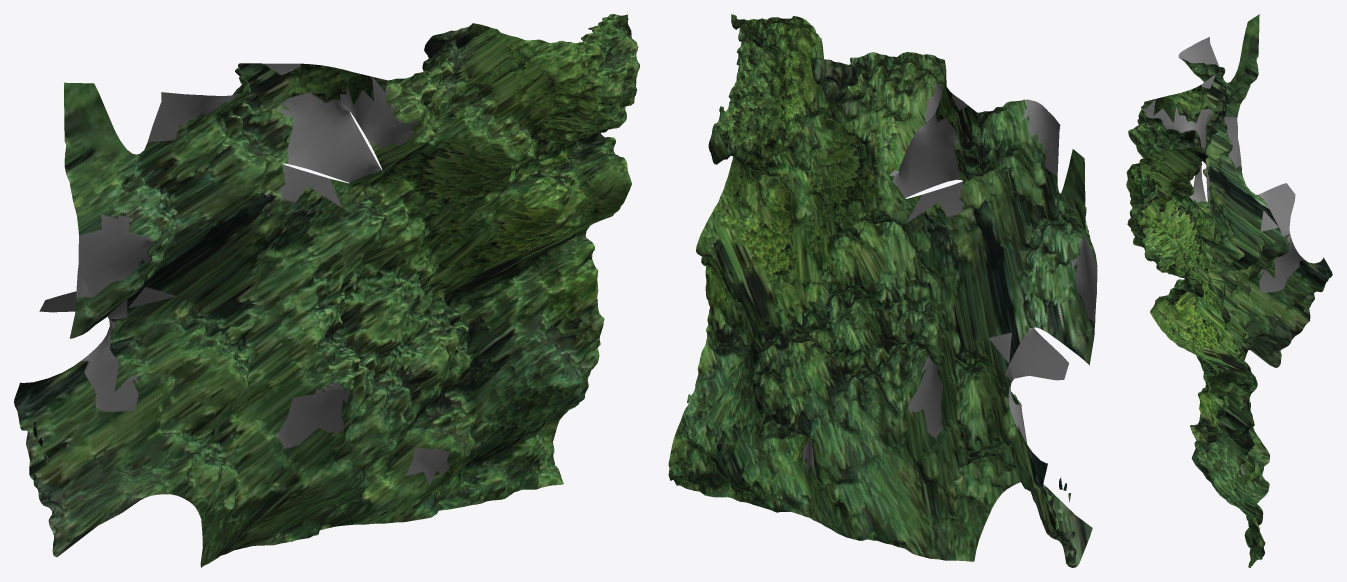
The model's file is Tile_+004_+005.fbx.
The picture shows the model from 3 angles, left to right: view 1: azimuth 30°, elevation 25°; view 2: azimuth 150°, elevation 25°; view 3: azimuth 270°, elevation 25°; orthographic projection. The views are drawn at different scales.
Parts seen in each view (by area): view 1: DefaultName; view 2: DefaultName; view 3: DefaultName.
Boxes of the visible parts, bbox=[...] form: DefaultName: bbox=[14, 14, 639, 567]; DefaultName: bbox=[668, 14, 1097, 567]; DefaultName: bbox=[1126, 14, 1332, 567].
Size of the model in its own units: 22.54 by 22.54 by 11.15.
